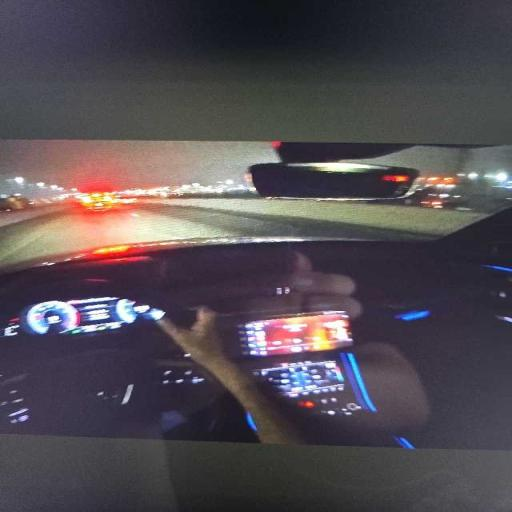car: (0, 165, 511, 449), (79, 192, 120, 211)
lane: (0, 200, 479, 266)
person: (157, 307, 307, 444)
